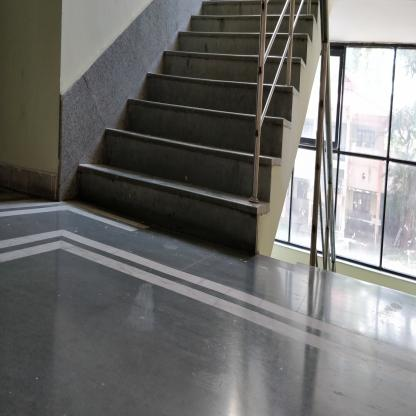stairs: (180, 25, 249, 255)
